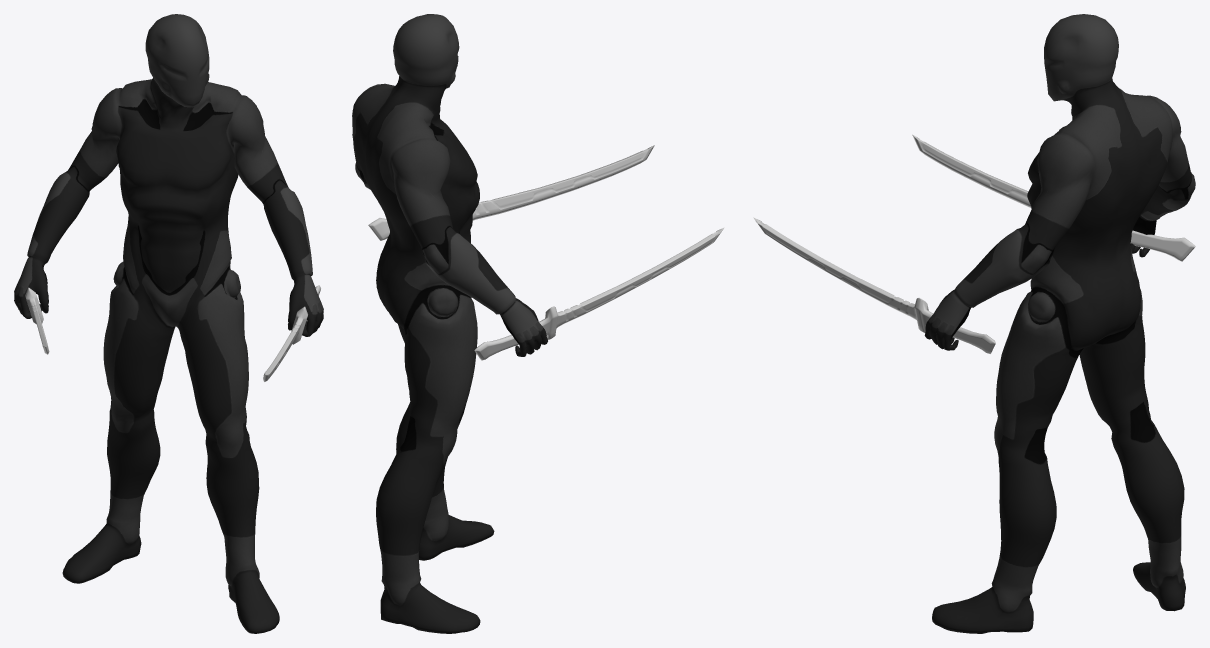
The picture shows the model from 3 angles, left to right: view 1: azimuth 30°, elevation 25°; view 2: azimuth 150°, elevation 25°; view 3: azimuth 270°, elevation 25°; orthographic projection. The views are drawn at different scales.
Parts seen in each view (by area): view 1: Cyborg_Ninja_Killer, Sword_l, Sword_l001; view 2: Cyborg_Ninja_Killer, Sword_l001, Sword_l; view 3: Cyborg_Ninja_Killer, Sword_l, Sword_l001.
Part boxes in pixels (box(x1,y1,x2,y2)): Cyborg_Ninja_Killer: box(14, 14, 323, 633); Sword_l: box(263, 285, 320, 381); Sword_l001: box(25, 287, 49, 354); Cyborg_Ninja_Killer: box(352, 14, 547, 633); Sword_l001: box(474, 227, 724, 360); Sword_l: box(368, 145, 654, 240); Cyborg_Ninja_Killer: box(924, 14, 1195, 633); Sword_l: box(753, 217, 995, 353); Sword_l001: box(912, 134, 1195, 261).
Bounding box in the file's own units: 106 × 182 × 123.
